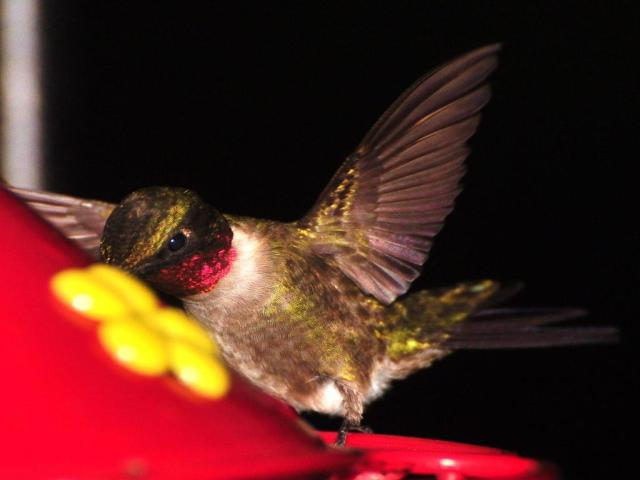Bird: (2, 47, 508, 450)
